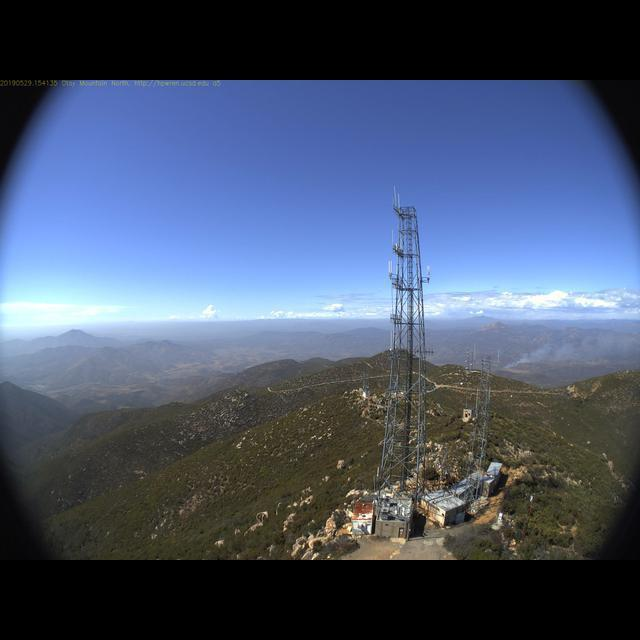Smoke: (495, 331, 637, 371)
